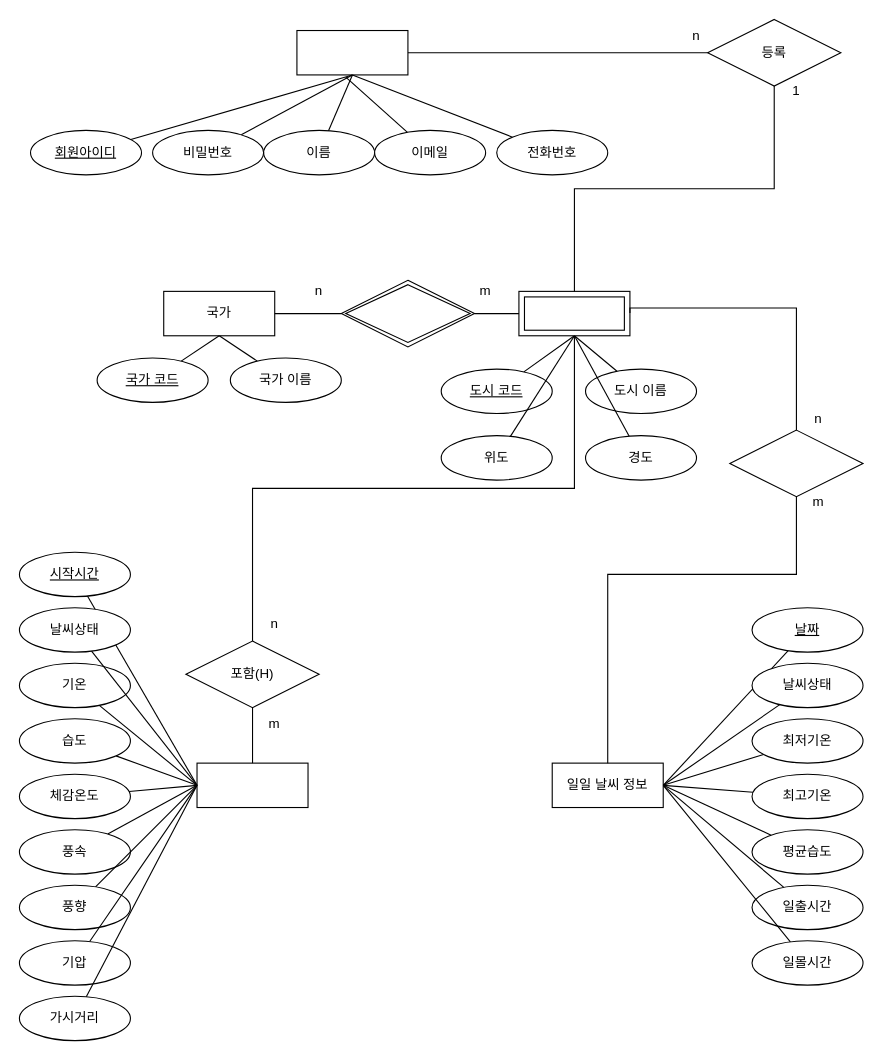
The diagram is 882 pixels wide and 1060 high, and some of its shapes have lost their labels. Each missing label, with the centre of its shape:
"도시" belongs at point 574,313.
"소속" belongs at point 407,313.
"시간별 날씨 정보" belongs at point 252,785.
"포함(D)" belongs at point 796,463.
"회원" belongs at point 352,52.
